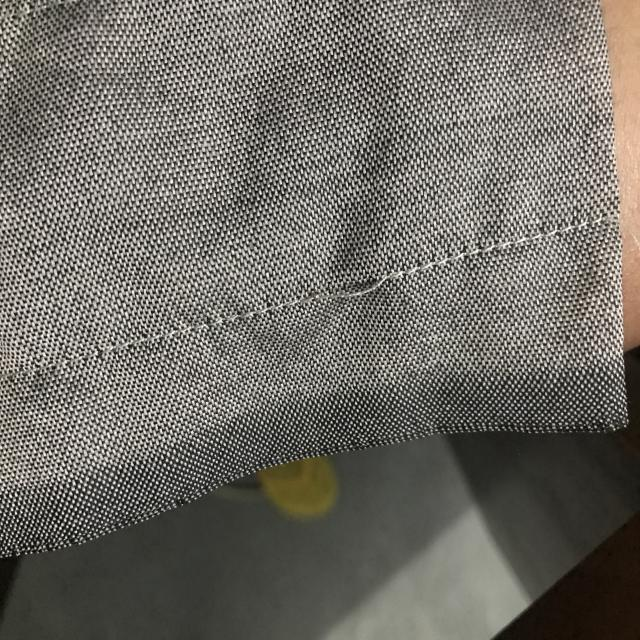good: (472, 232, 570, 266)
skip: (299, 267, 423, 322)
